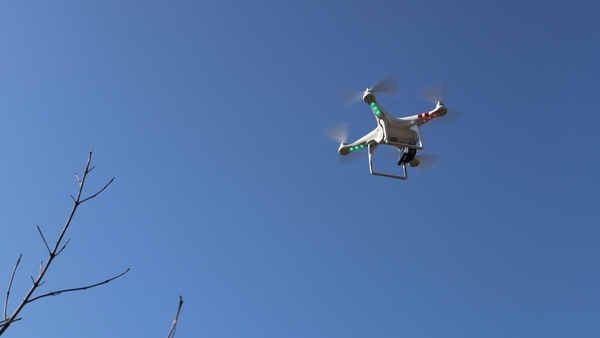drone: (319, 72, 456, 182)
